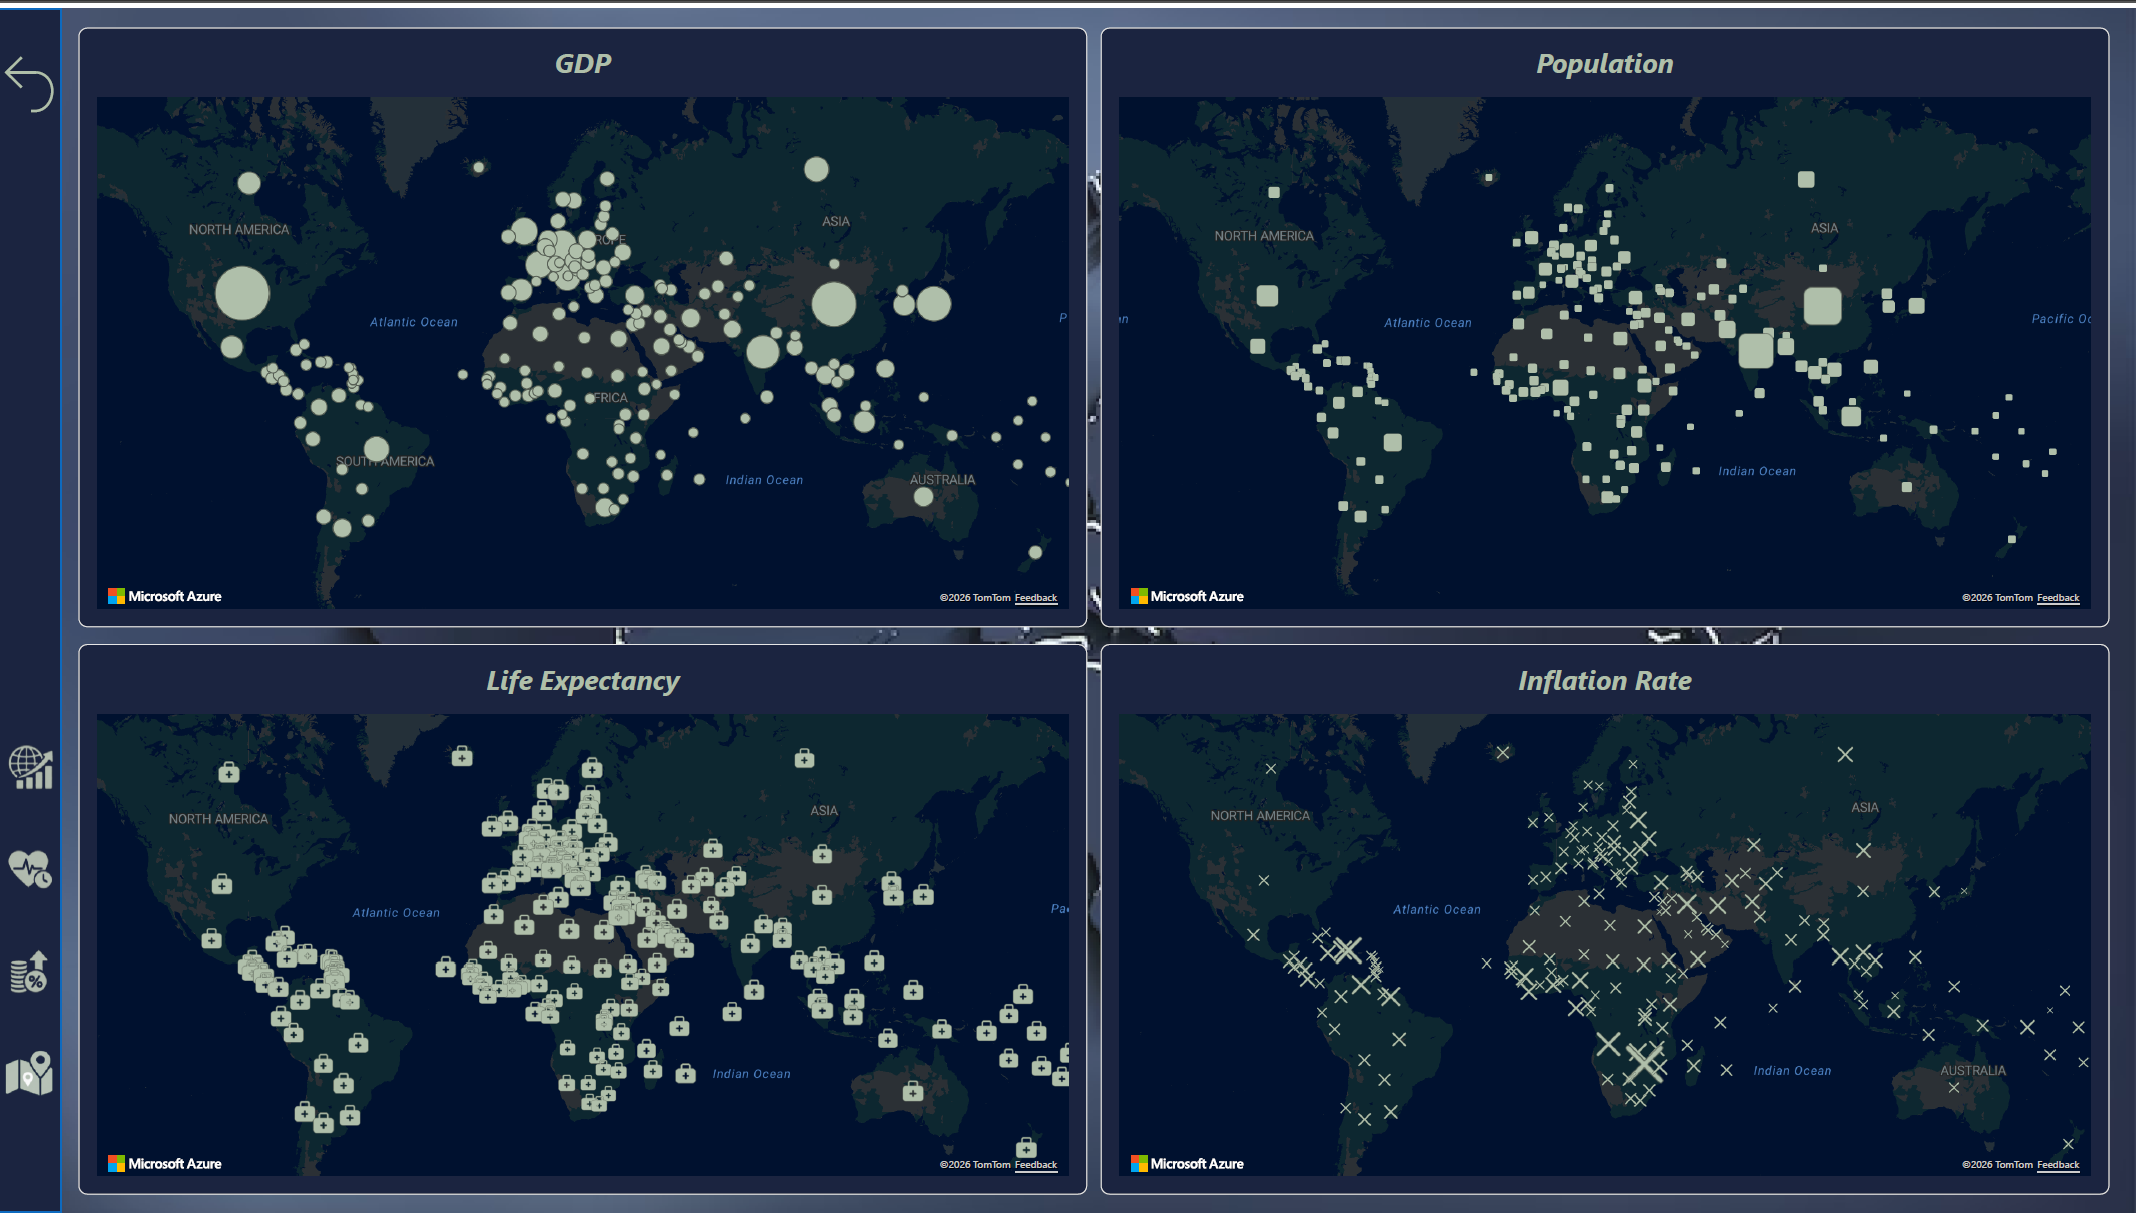

The dashboard page shown, as its layout file describes it:
{"tool":"powerbi","page":{"name":"MAP","canvas":[1920,1080],"ordinal":3},"visuals":[{"type":"shape","box":[0,0,58,1080.2],"z":0,"group":"g1"},{"type":"azureMap","title":"GDP","fields":{"Category":["Country Data Comparison.Country"],"Size":["Country Measures.Average GDP"]},"box":[72.8,17.4,904.9,537.9],"z":0},{"type":"azureMap","title":"Population","fields":{"Category":["Country Data Comparison.Country"],"Size":["Country Measures.Total Population"]},"box":[990.4,17.4,904.9,537.9],"z":1000},{"type":"actionButton","box":[1.8,723.2,58,87],"z":1000,"group":"g1"},{"type":"azureMap","title":"Life Expectancy","fields":{"Category":["Country Data Comparison.Country"],"Size":["Country Measures.Average Life Expectancy"]},"box":[72.8,569.5,904.9,493.6],"z":2000},{"type":"actionButton","box":[0,814.4,58,87],"z":2000,"group":"g1"},{"type":"azureMap","title":"Inflation Rate","fields":{"Category":["Country Data Comparison.Country"],"Size":["Country Measures.AVG Inflation Rate"]},"box":[990.4,569.5,904.9,493.6],"z":3000},{"type":"actionButton","box":[0,630.7,58,87],"z":3000,"group":"g1"},{"type":"group","id":"g1","title":"Group 1","box":[0,0,59.8,1080.2],"z":3001},{"type":"actionButton","box":[0,14.2,58,105.1],"z":3002},{"type":"actionButton","box":[0,906.2,58,87],"z":4000,"group":"g1"}]}

Visuals, with their boxes on the page's 1920x1080 design canvas (x1, y1, x2, y2). These are canvas units, not pixel positions in the 2136x1215 screenshot, which may show the page scaled, cropped or inside an application window:
shape: detection(0, 0, 58, 1080)
"GDP" azureMap: detection(73, 17, 978, 555)
"Population" azureMap: detection(990, 17, 1895, 555)
actionButton: detection(2, 723, 60, 810)
"Life Expectancy" azureMap: detection(73, 570, 978, 1063)
actionButton: detection(0, 814, 58, 901)
"Inflation Rate" azureMap: detection(990, 570, 1895, 1063)
actionButton: detection(0, 631, 58, 718)
"Group 1" group: detection(0, 0, 60, 1080)
actionButton: detection(0, 14, 58, 119)
actionButton: detection(0, 906, 58, 993)
